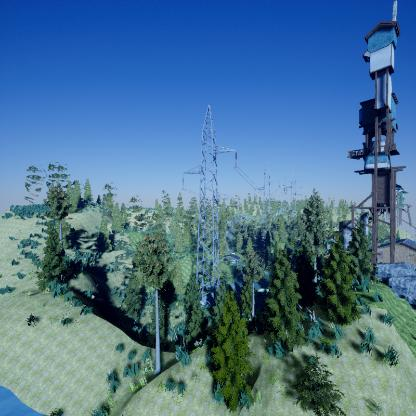tower: (180, 103, 240, 322)
